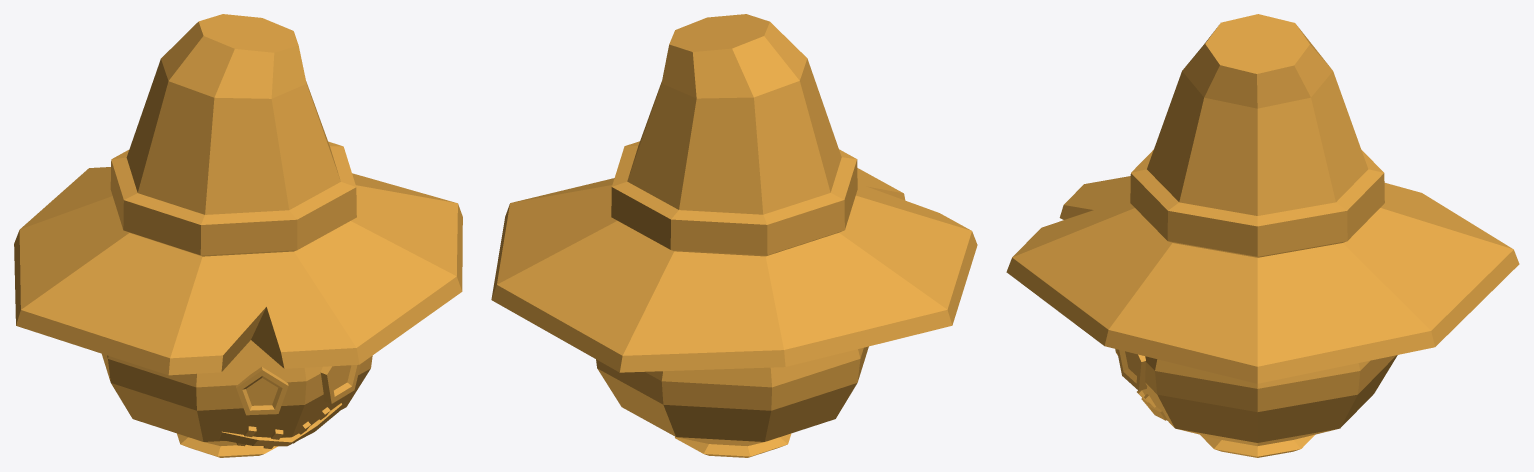
File: SCARECROWHEAD.fbx
The picture shows the model from 3 angles, left to right: view 1: azimuth 30°, elevation 25°; view 2: azimuth 150°, elevation 25°; view 3: azimuth 270°, elevation 25°; orthographic projection.
Parts seen in each view (by area): view 1: scarecrow-a; view 2: scarecrow-a; view 3: scarecrow-a.
Part boxes in pixels (x1=…): scarecrow-a: x1=14, y1=14, x2=462, y2=457; scarecrow-a: x1=491, y1=14, x2=977, y2=457; scarecrow-a: x1=1006, y1=14, x2=1519, y2=457.
Size of the model in its own units: 67.16 by 58.66 by 66.87.
